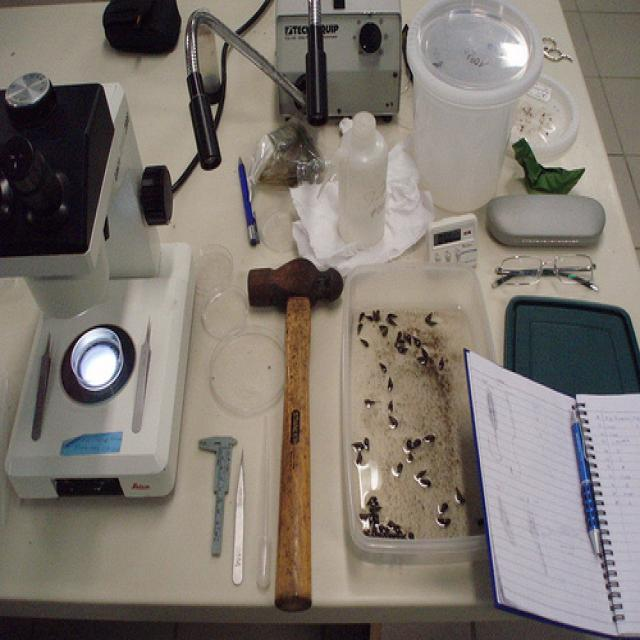hammer: (236, 251, 359, 613)
